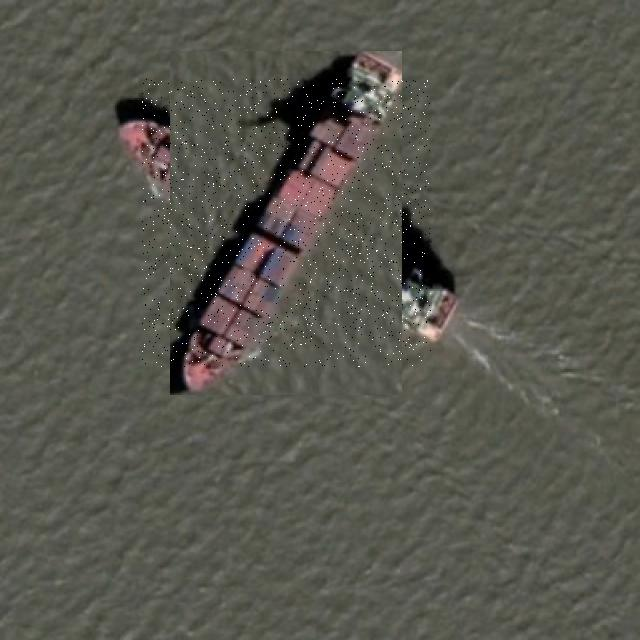boat: (142, 79, 431, 367)
